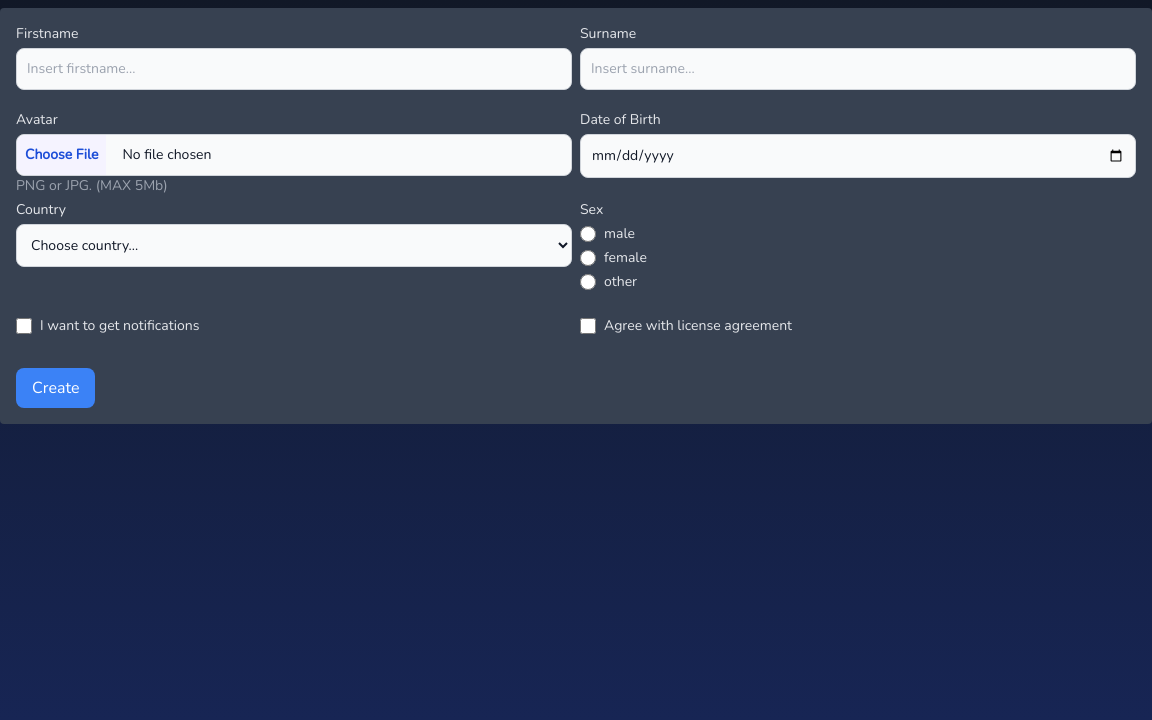
Test case: UserForm › Testing validation
Type "1" into the field labelled "Firstname" at (294, 69), box [16,48,572,90]
Type "1" into the field labelled "Surname" at (858, 69), box [580,48,1136,90]
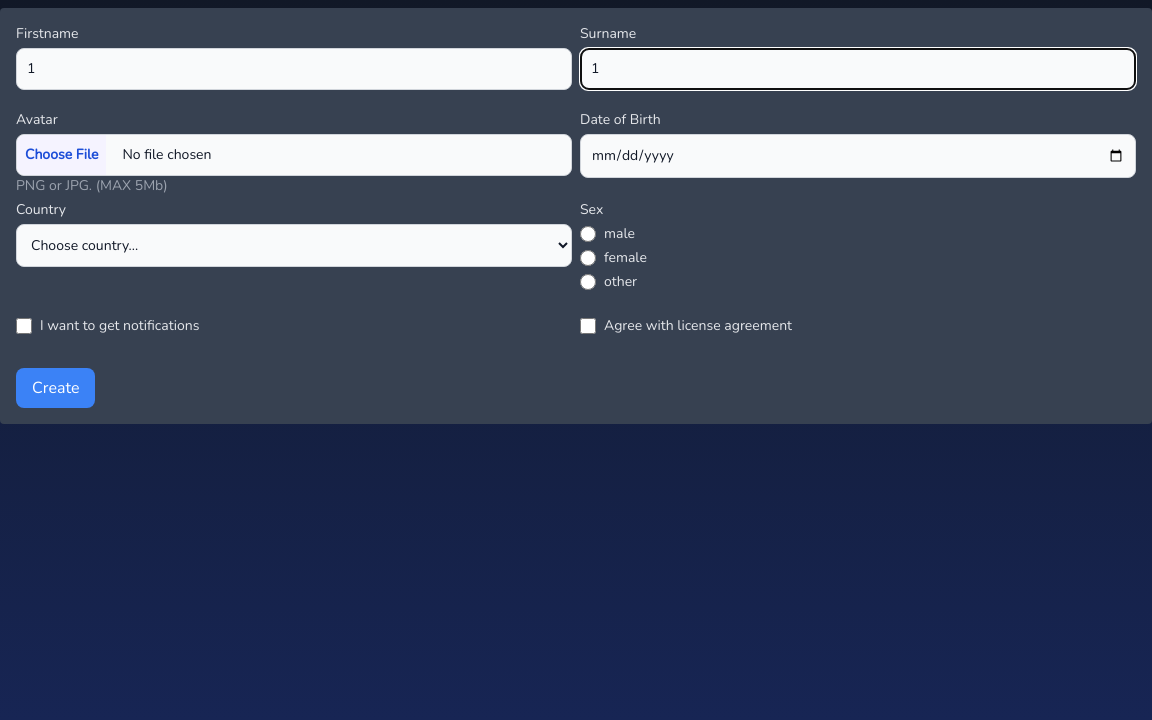
Click the button "Create" at (56, 388), box [16,368,95,408]
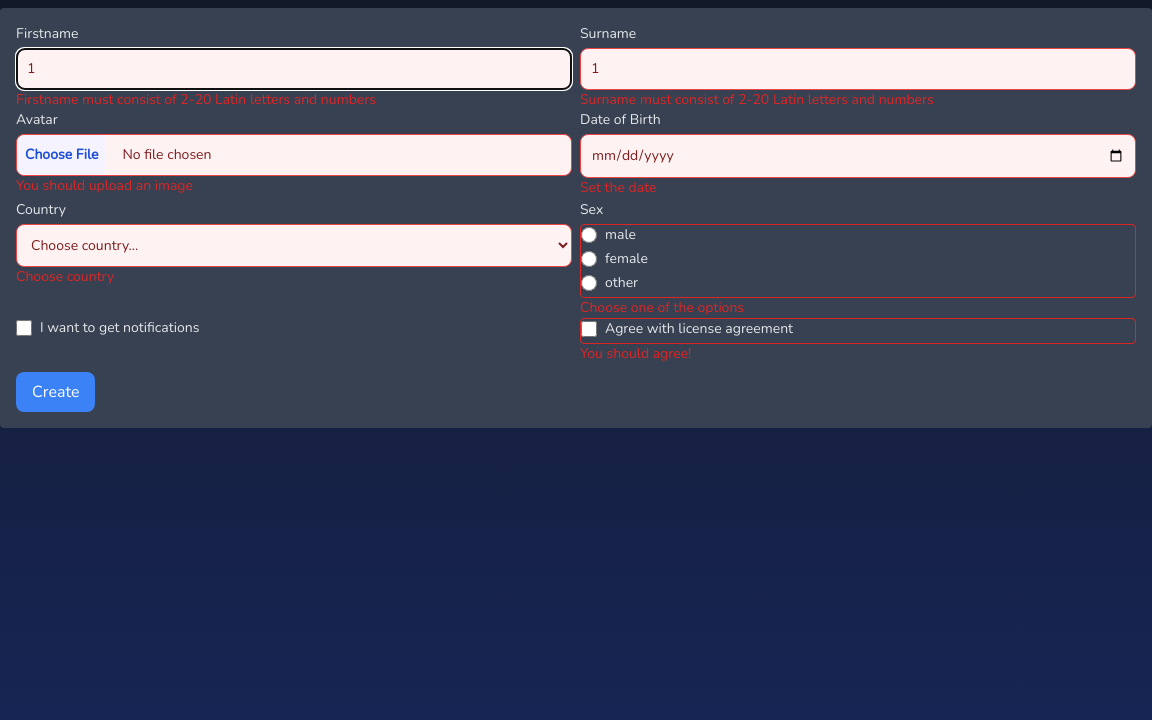
Result: the text "Firstname must consist of 2-20 Latin letters and numbers" is shown 2 times at [16,90,376,110]; [580,90,934,110]
Result: the text "You should upload an image" is shown at [16,176,193,195]
Result: the text "Set the date" is shown at [580,178,656,198]
Clear the field labelled "Firstname" at (294, 69), box [16,48,572,90]
Clear the field labelled "Surname" at (858, 69), box [580,48,1136,90]
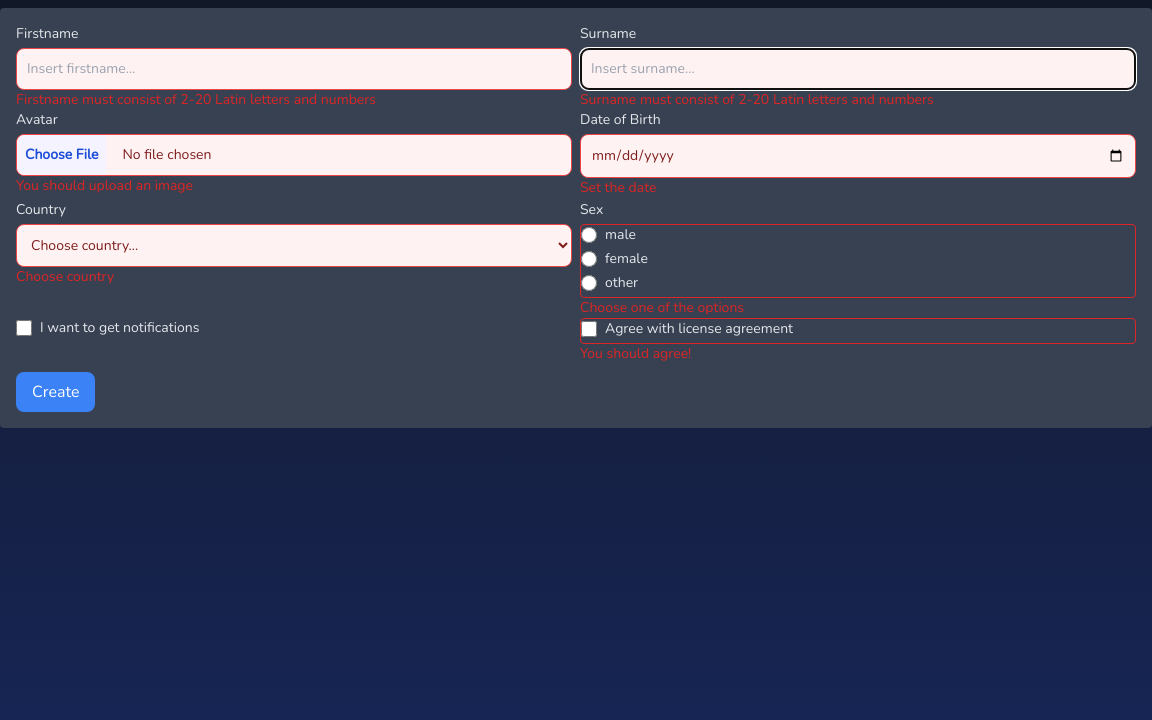
Type "TestName" into the field labelled "Firstname" at (294, 69), box [16,48,572,90]
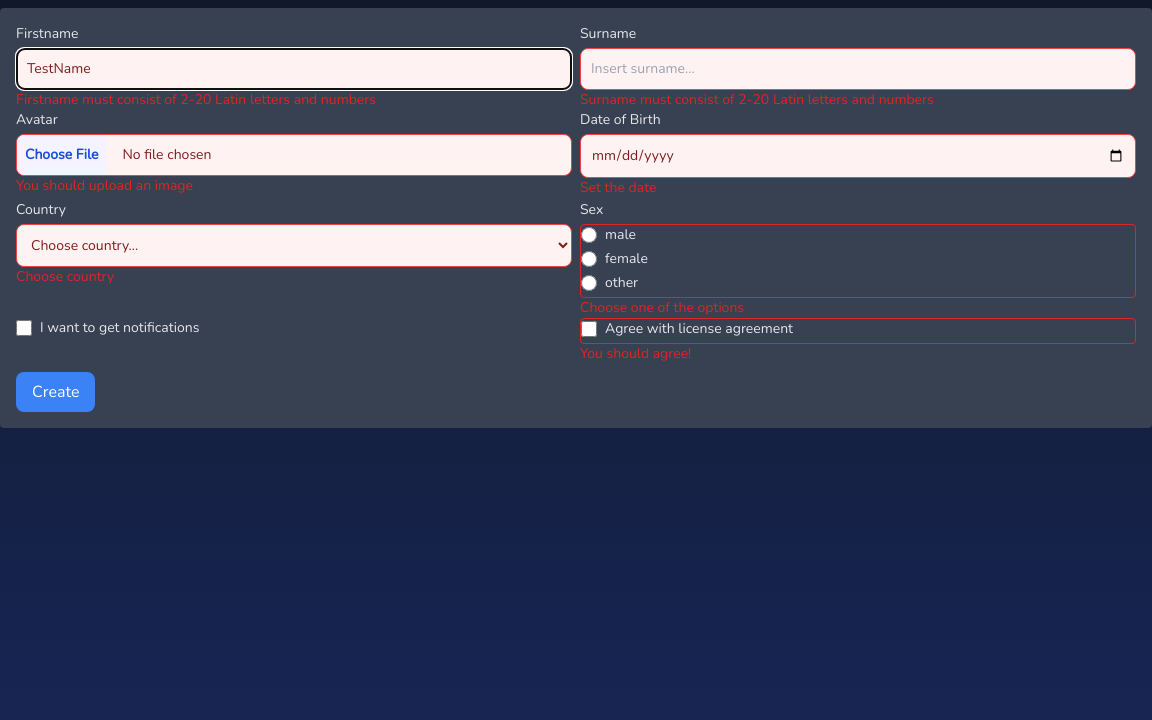
Type "TestName" into the field labelled "Surname" at (858, 69), box [580,48,1136,90]
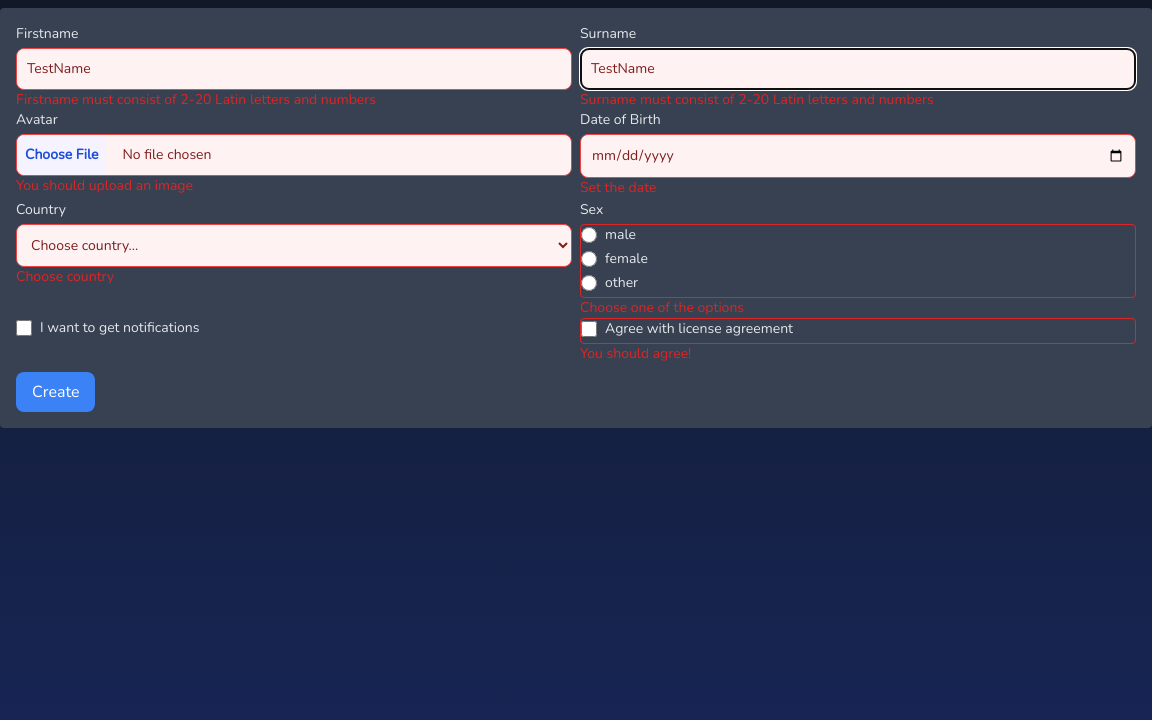
Click the button "Create" at (56, 392), box [16,372,95,412]
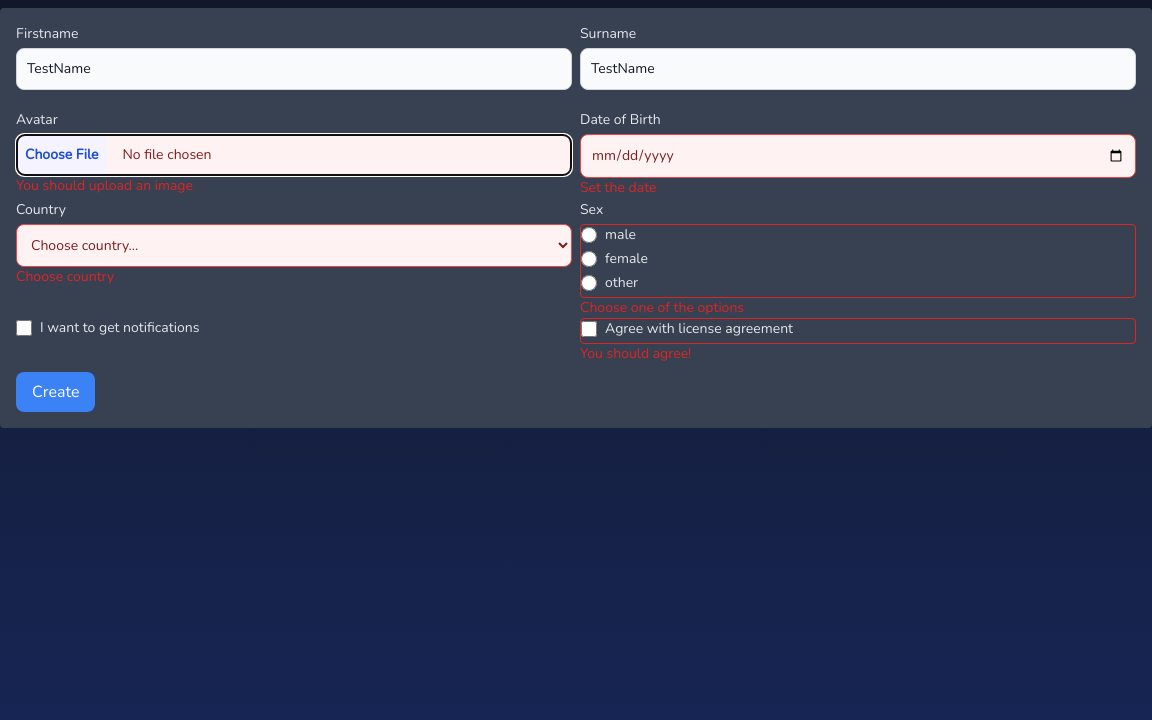
Result: the text "Latin letters and numbers" is gone
